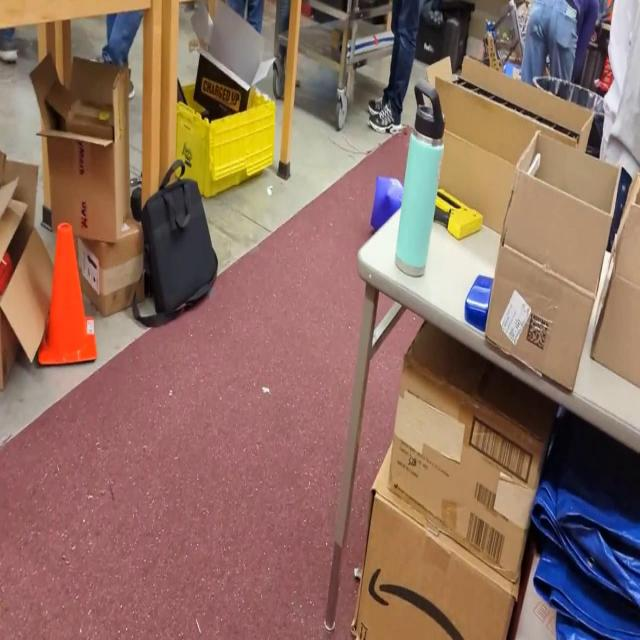frc_cube: (368, 176, 412, 246)
